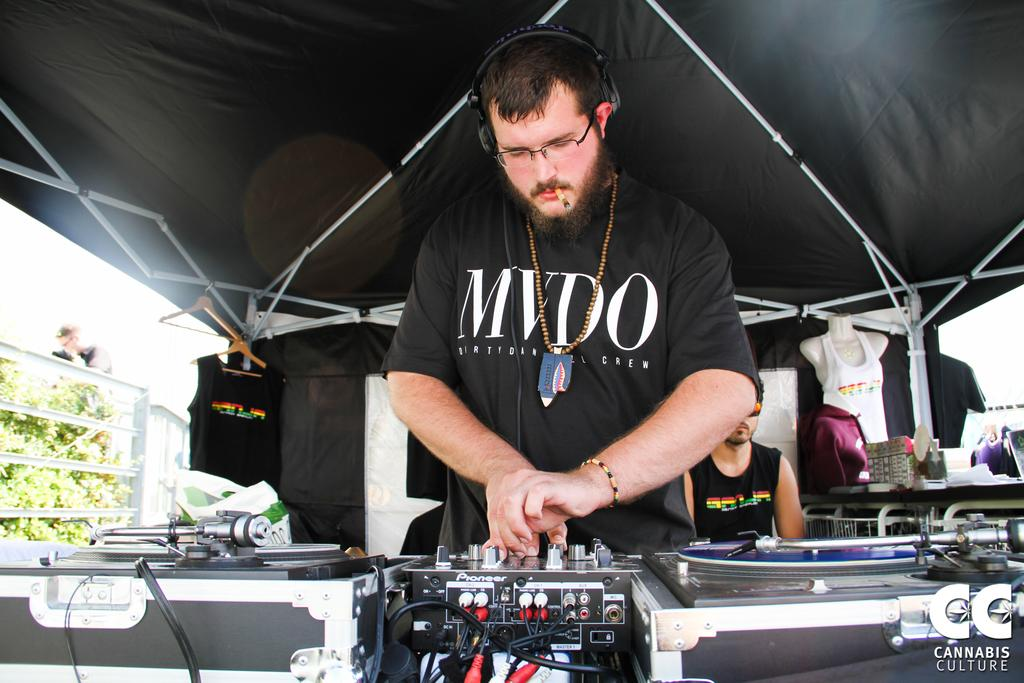Pessoa: (383, 27, 756, 554), (685, 407, 803, 541), (799, 314, 887, 441), (53, 323, 111, 373)
